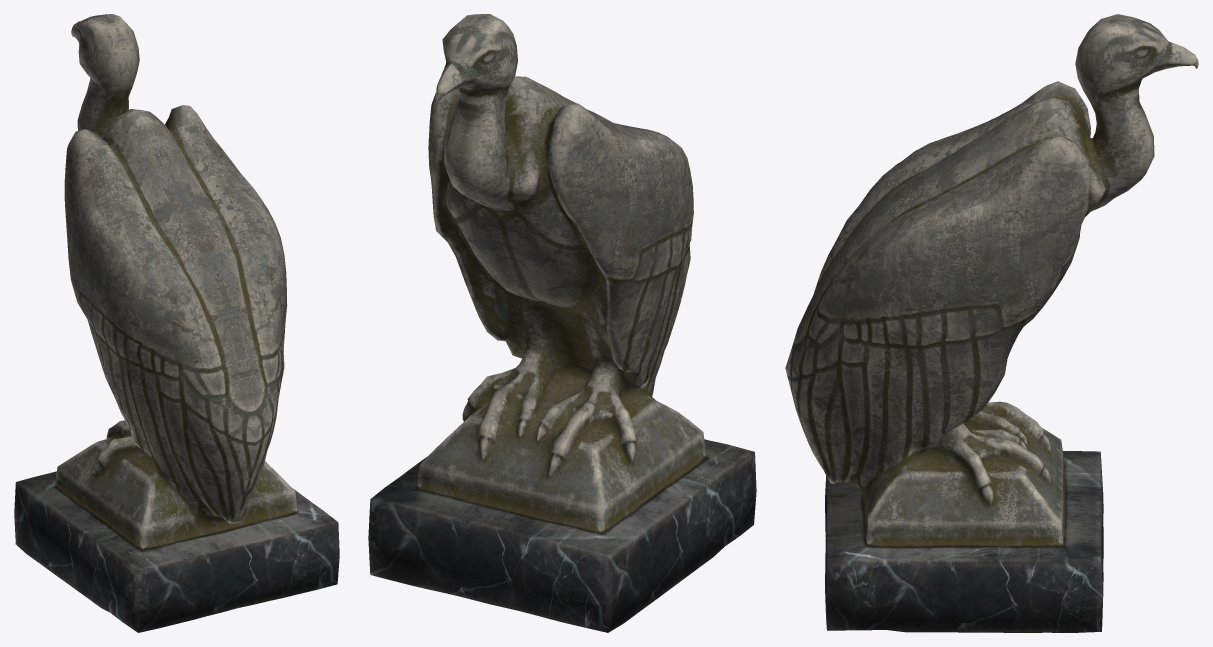
Rendered from vulture_stone_statue.glb.
The picture shows the model from 3 angles, left to right: view 1: azimuth 30°, elevation 25°; view 2: azimuth 150°, elevation 25°; view 3: azimuth 270°, elevation 25°; orthographic projection. The views are drawn at different scales.
Visible parts, largest first — view 1: Vulture stone statue_1k; view 2: Vulture stone statue_1k; view 3: Vulture stone statue_1k.
Boxes of the visible parts, x1=… form: Vulture stone statue_1k: x1=14, y1=14, x2=339, y2=632; Vulture stone statue_1k: x1=368, y1=14, x2=756, y2=632; Vulture stone statue_1k: x1=785, y1=14, x2=1198, y2=632.
Size of the model in its own units: 0.2036 by 0.4732 by 0.3169.
Materials: 1 (1 with a texture image).
